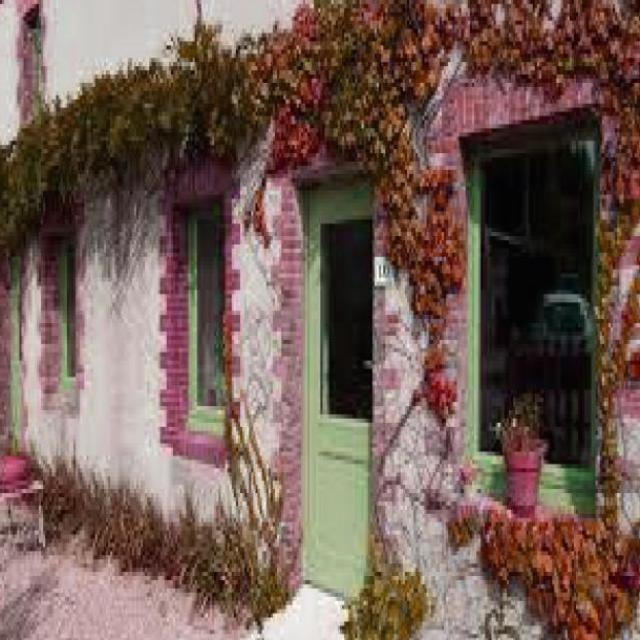door: (299, 179, 374, 602)
